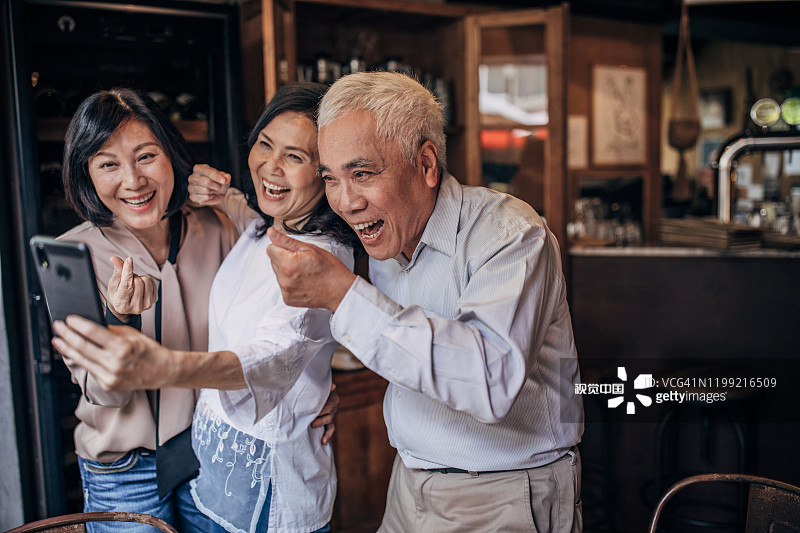no-phone: (257, 225, 365, 321), (98, 241, 170, 326), (178, 155, 238, 212)
taking photos: (22, 308, 203, 408)
